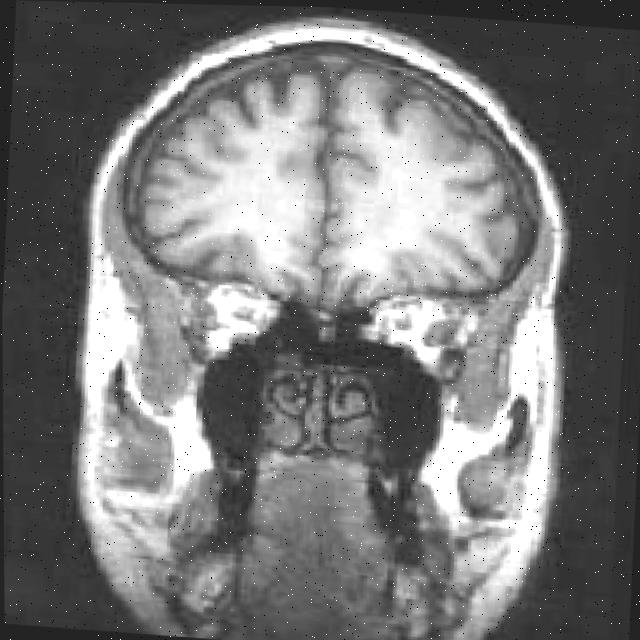NoTumor: (83, 2, 578, 340)
